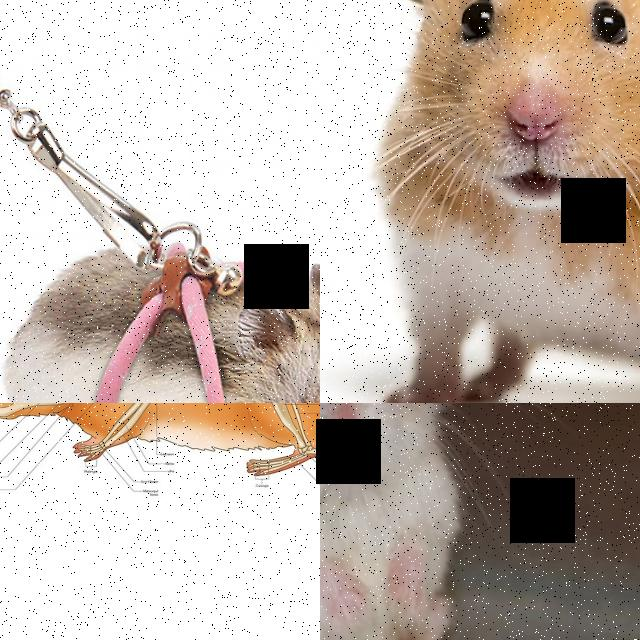hamster: (346, 0, 640, 403), (5, 236, 320, 403), (320, 403, 469, 640), (0, 403, 320, 483)
